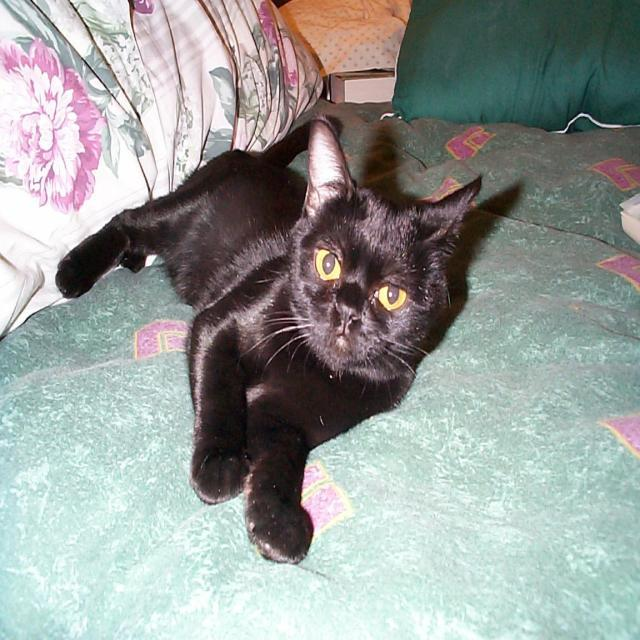Bombay: (293, 116, 480, 361)
